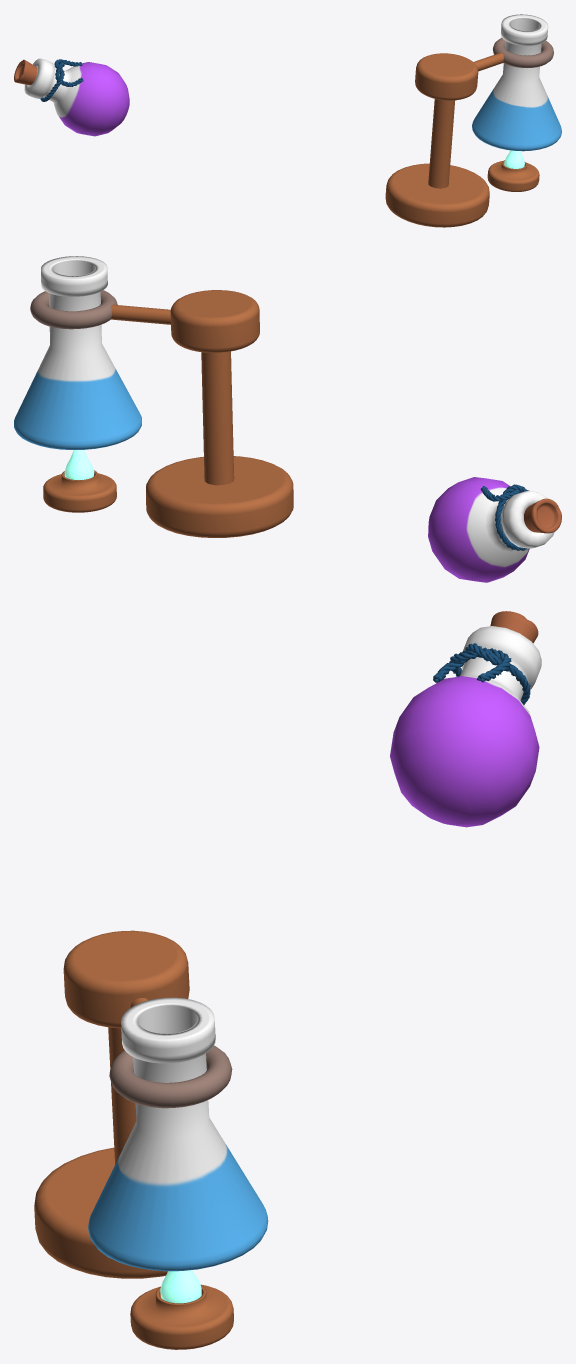
The picture shows the model from 3 angles, top to bottom: view 1: azimuth 30°, elevation 25°; view 2: azimuth 150°, elevation 25°; view 3: azimuth 270°, elevation 25°; orthographic projection. The views are drawn at different scales.
Parts seen in each view (by area): view 1: 试验台, 试验台.001, Sphere.001, Sphere; view 2: 试验台, 试验台.001, Sphere.001, Sphere; view 3: 试验台.001, 试验台, Sphere.001, Sphere.
Part boxes in pixels (box(x1,y1,x2,y2)): 试验台: box(385, 37, 553, 227); 试验台.001: box(472, 14, 561, 151); Sphere.001: box(24, 58, 129, 136); Sphere: box(14, 59, 83, 101); 试验台: box(30, 290, 293, 537); 试验台.001: box(14, 256, 141, 449); Sphere.001: box(428, 477, 554, 582); Sphere: box(480, 484, 561, 550); 试验台.001: box(88, 997, 268, 1271); 试验台: box(34, 930, 233, 1349); Sphere.001: box(390, 626, 541, 827); Sphere: box(433, 611, 538, 704).
Size of the model in its own units: 5.83 by 1.97 by 2.8.
8 materials, 1 textured.
